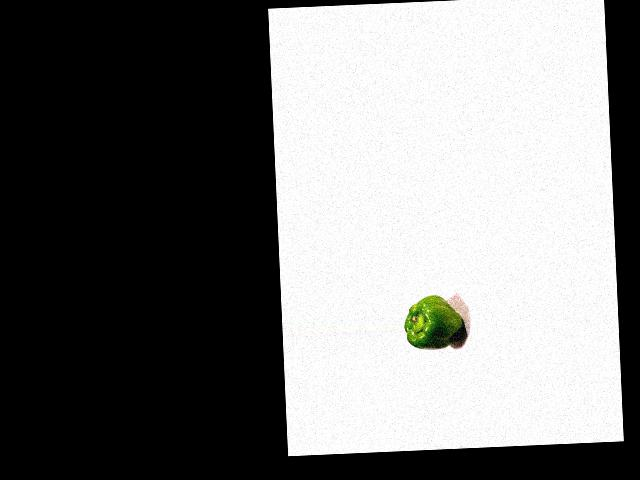bell_pepper: (403, 291, 467, 351)
